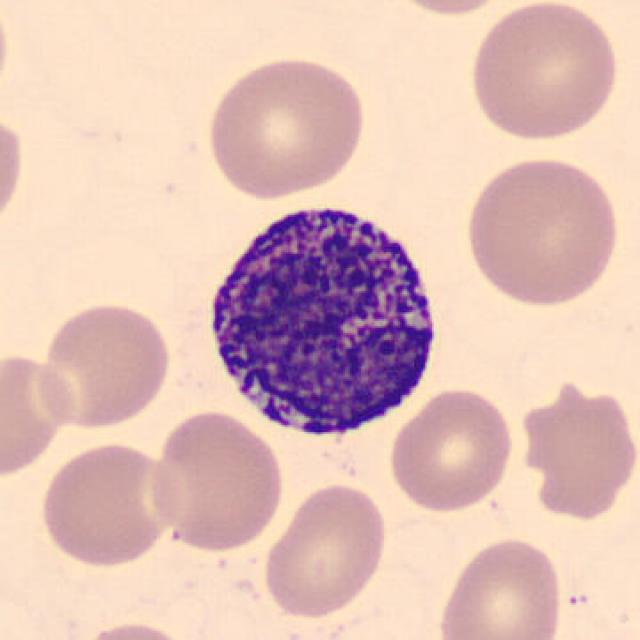Basophil: (196, 185, 450, 451)
RBC: (459, 152, 624, 308), (201, 51, 370, 203), (464, 0, 622, 145), (146, 406, 288, 556), (507, 370, 638, 531), (36, 439, 183, 569), (34, 298, 176, 432), (258, 480, 391, 620), (386, 384, 517, 515), (434, 534, 567, 640), (0, 349, 78, 481), (0, 107, 28, 232), (366, 0, 521, 18), (73, 619, 197, 640), (0, 2, 14, 113)
